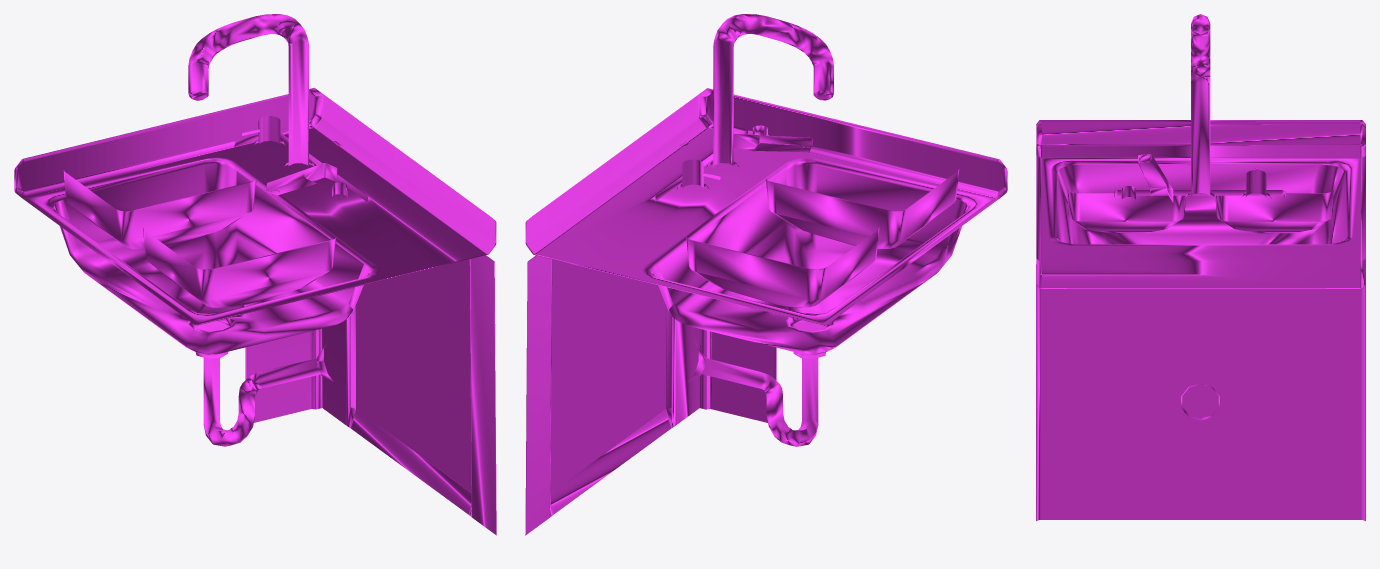
The model's file is uee_lawless_prop_counter_sink_01.glb.
The picture shows the model from 3 angles, left to right: view 1: azimuth 30°, elevation 25°; view 2: azimuth 150°, elevation 25°; view 3: azimuth 270°, elevation 25°; orthographic projection. The views are drawn at different scales.
Bounding box in the file's own units: 1.02 × 1.53 × 1.
